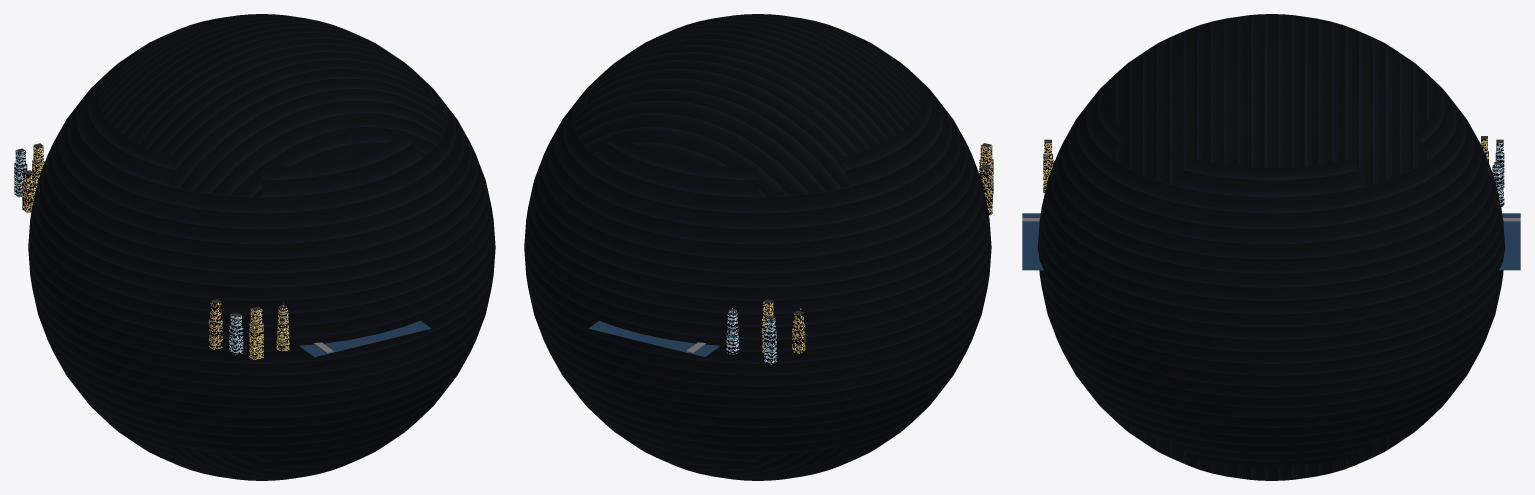
Rendered from MarineDriveNightMap.glb.
3 renders of one model, left to right at view 1: azimuth 30°, elevation 25°; view 2: azimuth 150°, elevation 25°; view 3: azimuth 270°, elevation 25°, orthographic.
Visible parts, largest first — view 1: Sky_Celestial_Dome, River_Water_Surface, Bld_Deep_1, Bld_Deep_3, Bld_Deep_2, Bld_Mid_L5, Bld_Deep_23, Bld_Deep_21; view 2: Sky_Celestial_Dome, River_Water_Surface, Bld_Deep_23, Bld_Mid_R4, Bld_Deep_21; view 3: Sky_Celestial_Dome, River_Water_Surface.
Boxes of the visible parts, x1,y1,x2,y2 form: Sky_Celestial_Dome: (28, 14, 495, 480); River_Water_Surface: (299, 321, 430, 356); Bld_Deep_1: (249, 306, 263, 360); Bld_Deep_3: (209, 299, 222, 349); Bld_Deep_2: (229, 312, 243, 355); Bld_Mid_L5: (276, 300, 289, 351); Bld_Deep_23: (14, 148, 27, 197); Bld_Deep_21: (22, 170, 35, 213); Sky_Celestial_Dome: (524, 14, 991, 480); River_Water_Surface: (588, 320, 720, 356); Bld_Deep_23: (764, 316, 776, 364); Bld_Mid_R4: (726, 304, 739, 354); Bld_Deep_21: (792, 311, 805, 353); Sky_Celestial_Dome: (1037, 14, 1505, 480); River_Water_Surface: (1022, 213, 1520, 270).
Bounding box in the file's own units: 900 × 900 × 960.
Materials: 56 (11 with a texture image).
